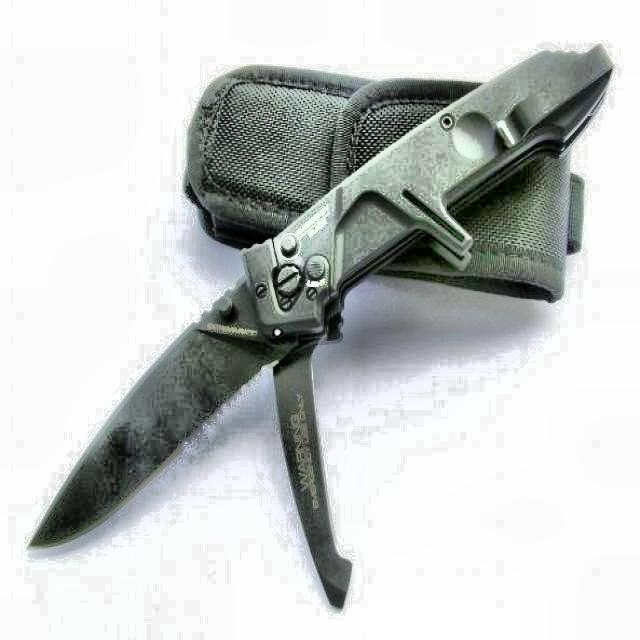knife: (32, 45, 614, 560)
